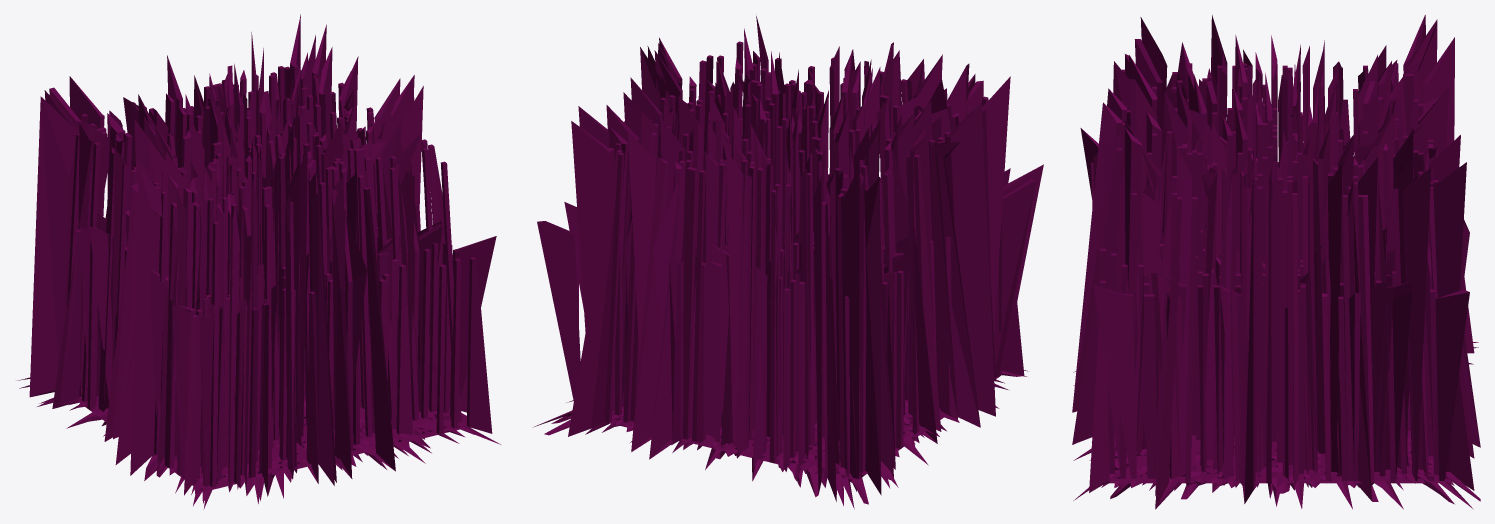
The model's file is grass.fbx.
3 renders of one model, left to right at view 1: azimuth 30°, elevation 25°; view 2: azimuth 150°, elevation 25°; view 3: azimuth 270°, elevation 25°, orthographic. The views are drawn at different scales.
Visible parts, largest first — view 1: Plane; view 2: Plane; view 3: Plane.
Boxes of the visible parts, bbox=[...] form: Plane: bbox=[17, 14, 500, 509]; Plane: bbox=[533, 16, 1043, 509]; Plane: bbox=[1072, 15, 1480, 509].
Bounding box in the file's own units: 323 × 287 × 323.
